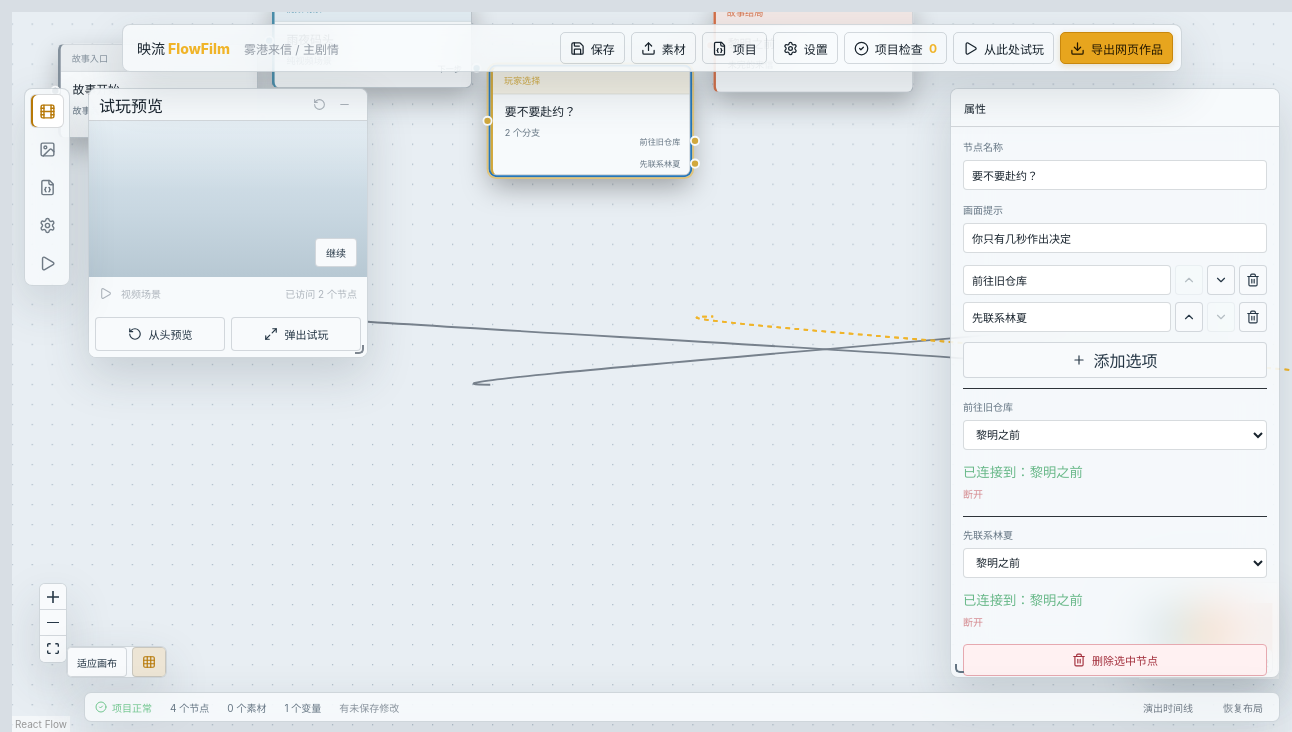
editor workbench › shows a clear status after a manual save
The width and height of the screenshot is (1292, 732).
Click the button with aria-label "保存项目": (592, 48) [560, 32, 625, 64]
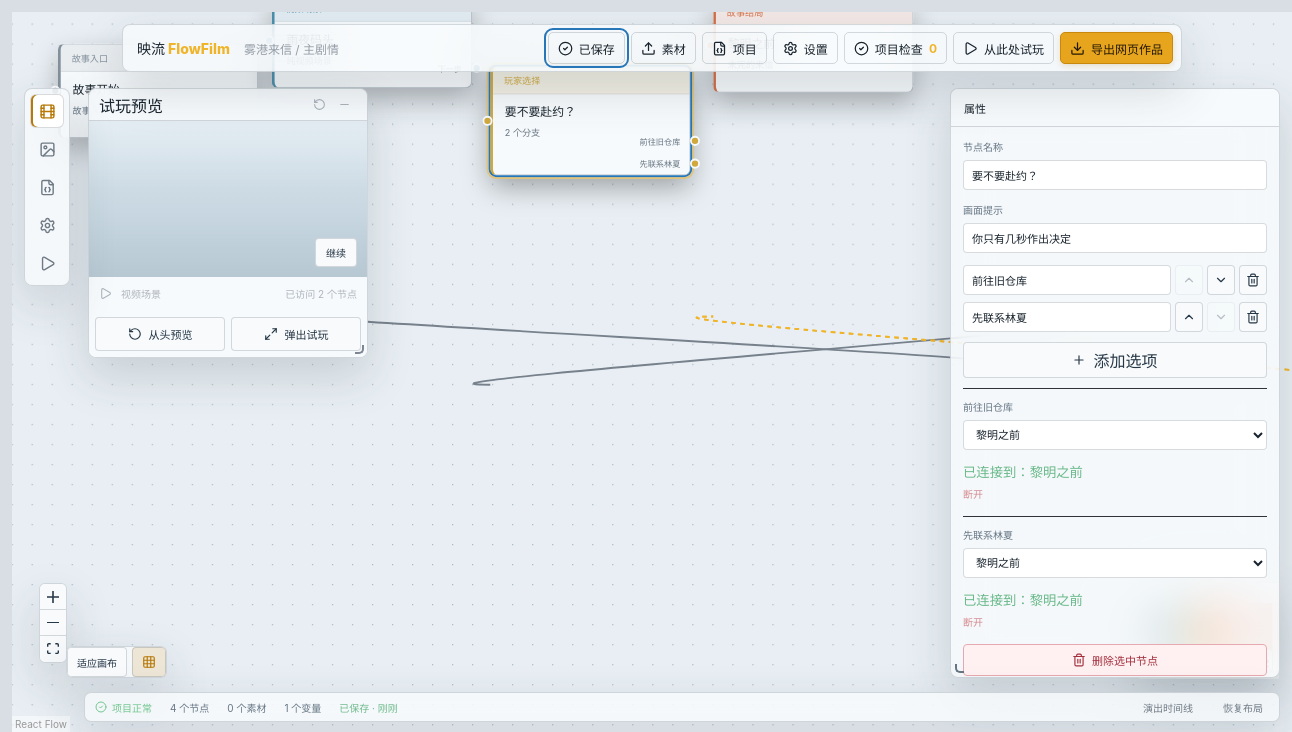
Check: the text "已保存 · 刚刚" is shown, box [339, 700, 398, 714]
